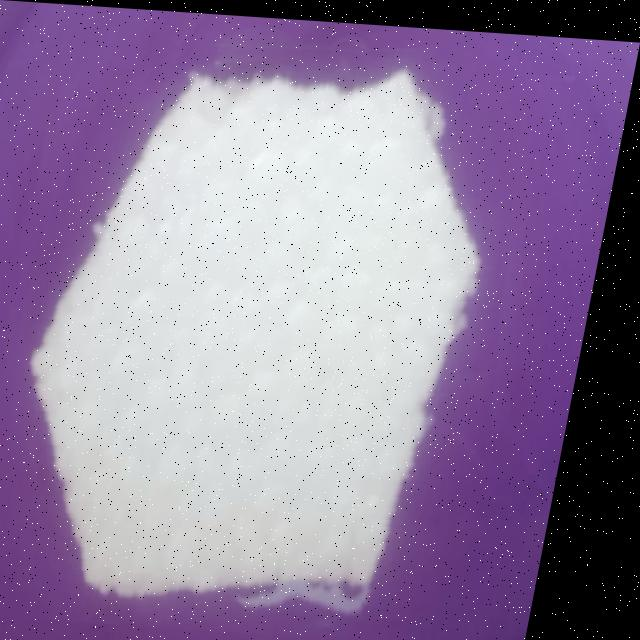thermocoal: (0, 23, 565, 639)
